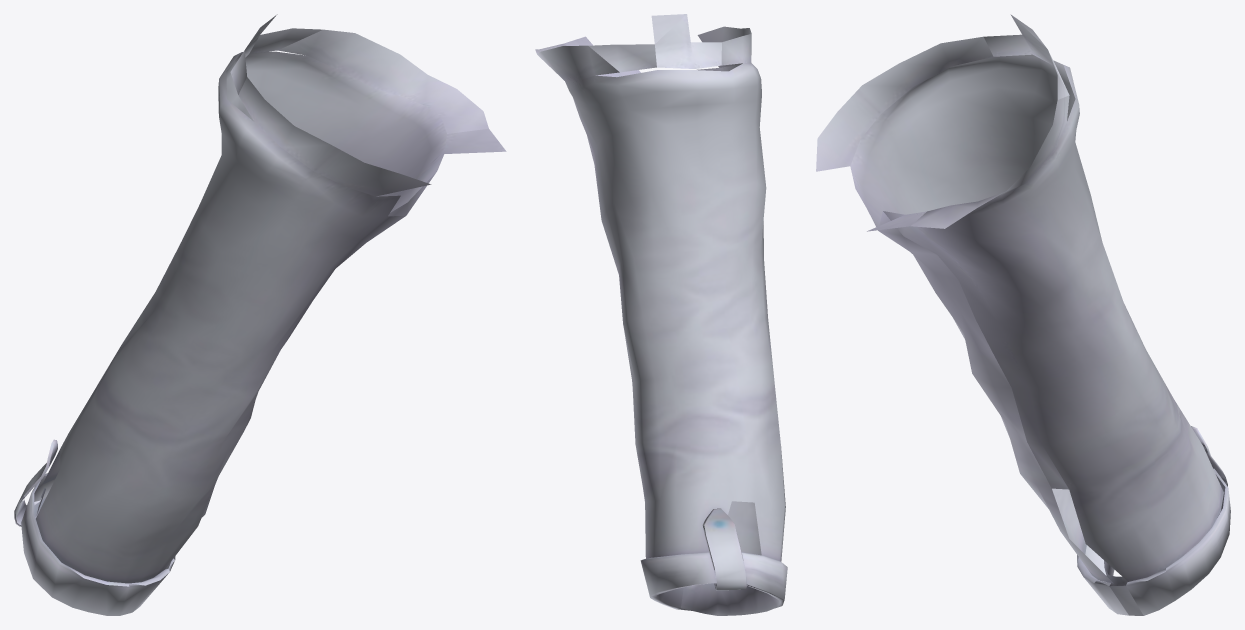
File: HombroIzq.obj
3 renders of one model, left to right at view 1: azimuth 30°, elevation 25°; view 2: azimuth 150°, elevation 25°; view 3: azimuth 270°, elevation 25°, orthographic. The views are drawn at different scales.
Parts seen in each view (by area): view 1: HombroIzquierdo; view 2: HombroIzquierdo; view 3: HombroIzquierdo.
Boxes of the visible parts, left/top/right/bottom form: HombroIzquierdo: left=14, top=14, right=506, bottom=615; HombroIzquierdo: left=535, top=14, right=787, bottom=615; HombroIzquierdo: left=816, top=14, right=1230, bottom=615.
Size of the model in its own units: 4.8 by 7.65 by 4.51.
1 material, 1 textured.
